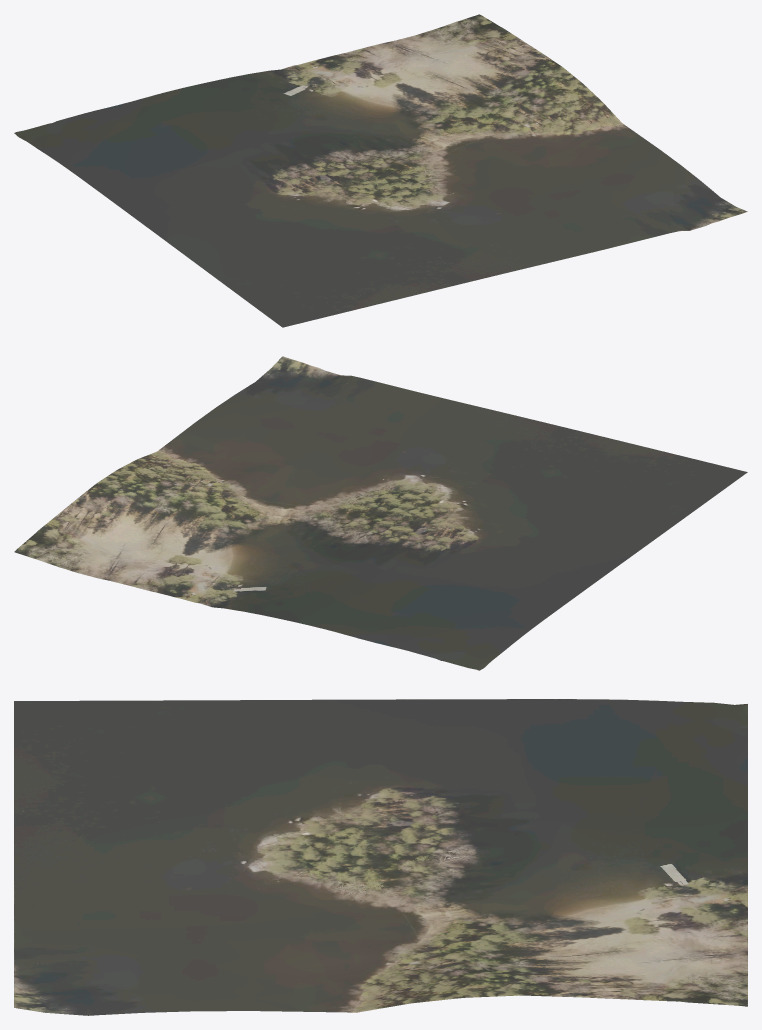
The model's file is CM_Terrain_24492506_6813855.fbx.
The picture shows the model from 3 angles, top to bottom: view 1: azimuth 30°, elevation 25°; view 2: azimuth 150°, elevation 25°; view 3: azimuth 270°, elevation 25°; orthographic projection. The views are drawn at different scales.
Parts seen in each view (by area): view 1: CM_Terrain_24492506_6813855_LOD0; view 2: CM_Terrain_24492506_6813855_LOD0; view 3: CM_Terrain_24492506_6813855_LOD0.
Boxes of the visible parts, x1,y1,x2,y2 form: CM_Terrain_24492506_6813855_LOD0: (14, 14, 747, 327); CM_Terrain_24492506_6813855_LOD0: (14, 356, 747, 670); CM_Terrain_24492506_6813855_LOD0: (14, 699, 747, 1015).
Size of what is drawn, in the model's own units: 205 by 7.09 by 205.
